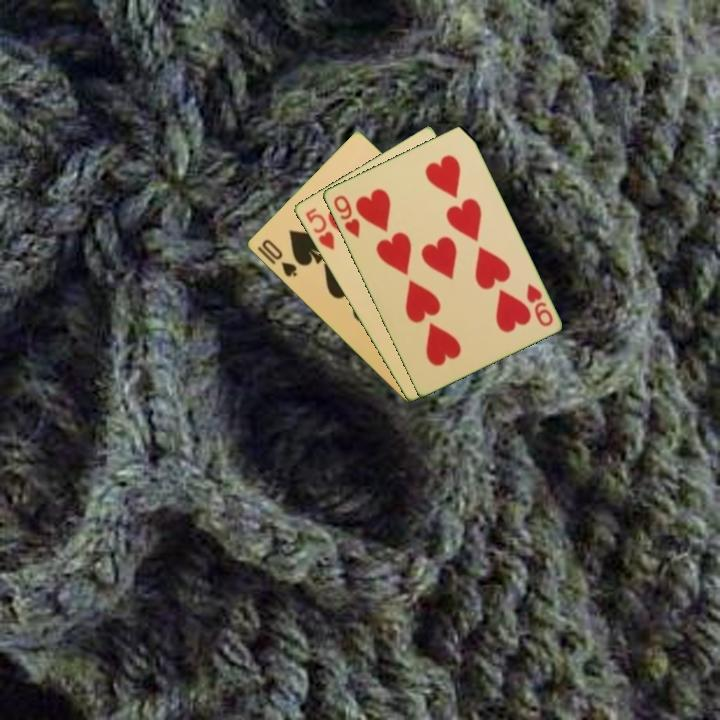10s: (253, 236, 300, 280)
5h: (301, 204, 337, 253)
9h: (329, 191, 363, 241), (522, 280, 556, 329)
